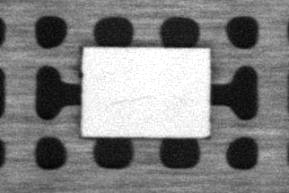DIE_CRACK: (110, 92, 155, 106)
